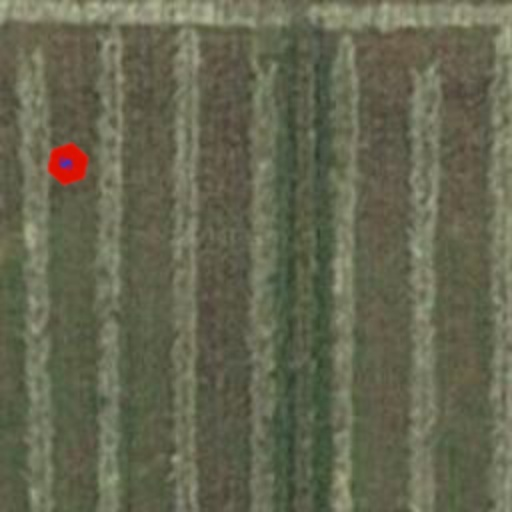hexagon: (40, 136, 96, 192)
